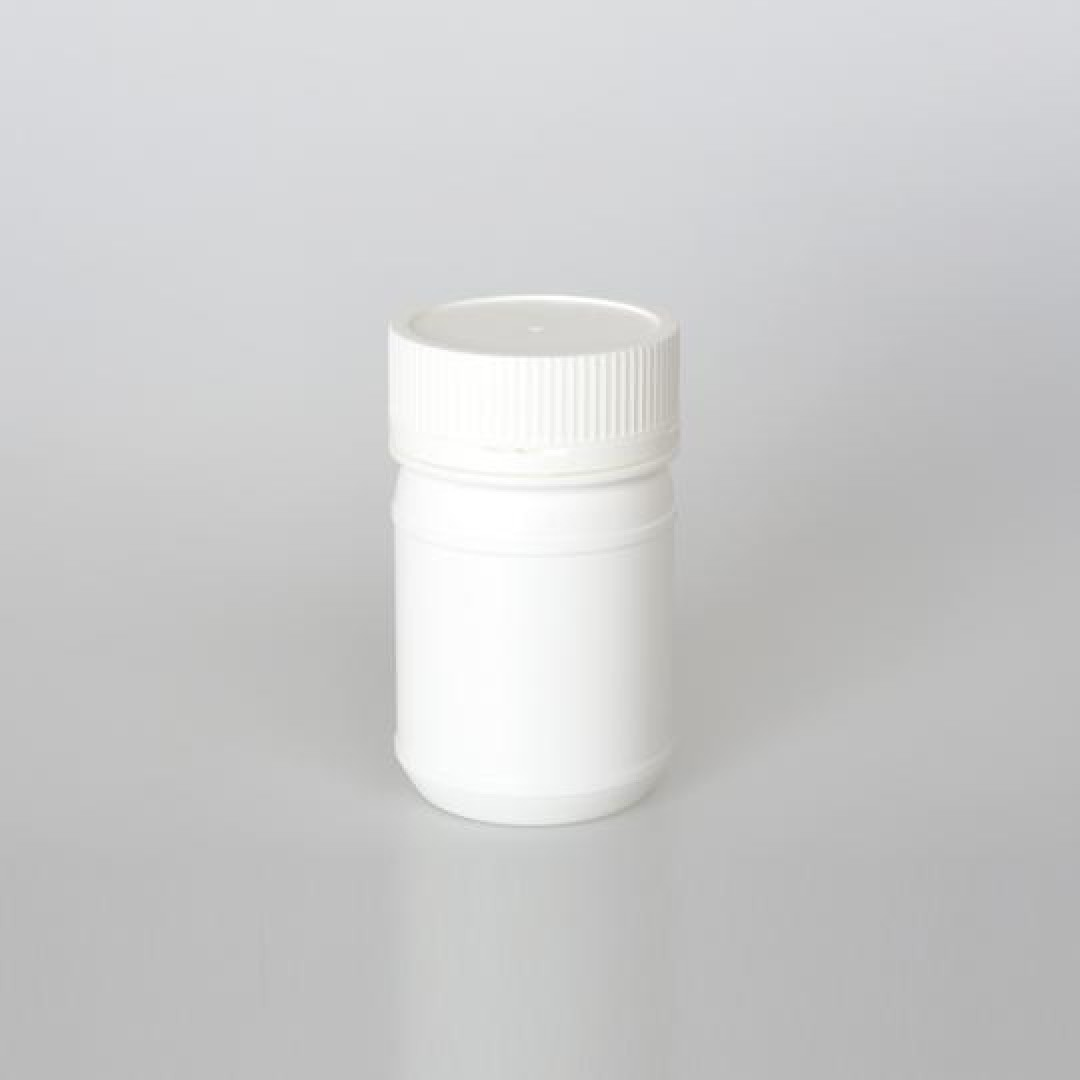medicinejar: (382, 302, 705, 816)
